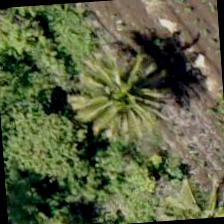Kelapa_Sawit: (60, 37, 156, 133)
